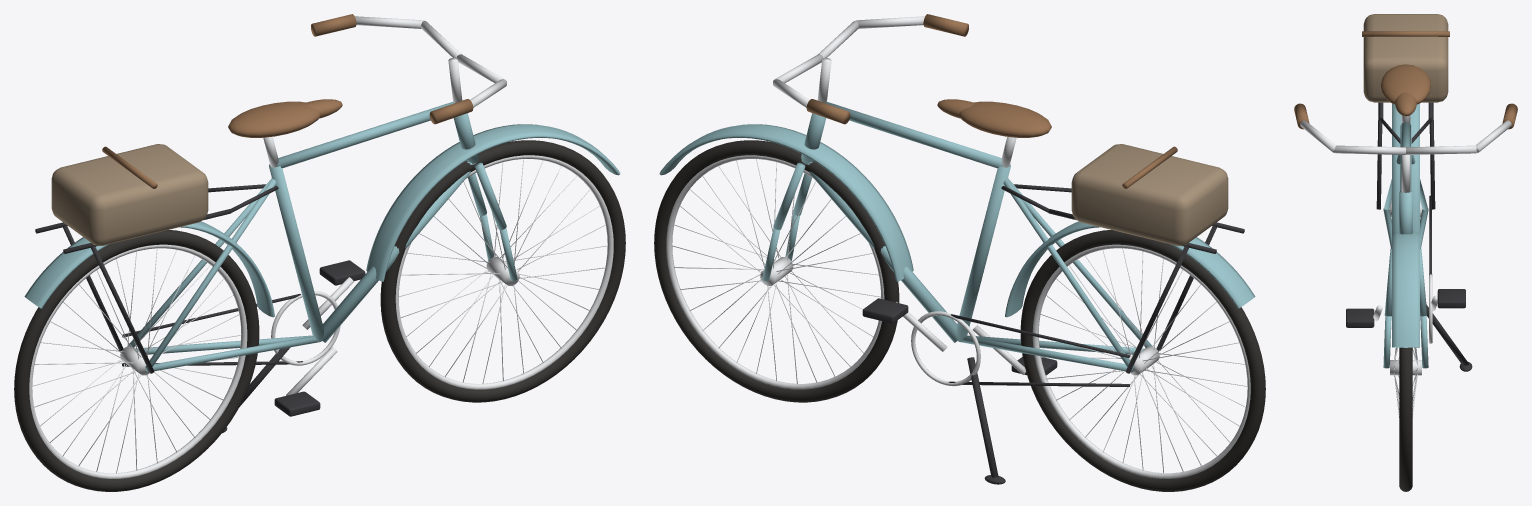
File: bicicleta.glb
3 views of the same model, side by side, from view 1: azimuth 30°, elevation 25°; view 2: azimuth 150°, elevation 25°; view 3: azimuth 270°, elevation 25° (orthographic). The views are drawn at different scales.
Visible parts, largest first — view 1: bicicleta; view 2: bicicleta; view 3: bicicleta.
Part boxes in pixels (x1,y1,x2,y2): bicicleta: [14, 14, 625, 491]; bicicleta: [654, 14, 1265, 491]; bicicleta: [1294, 14, 1517, 491].
Size of the model in its own units: 1.76 by 1.01 by 0.6337.
